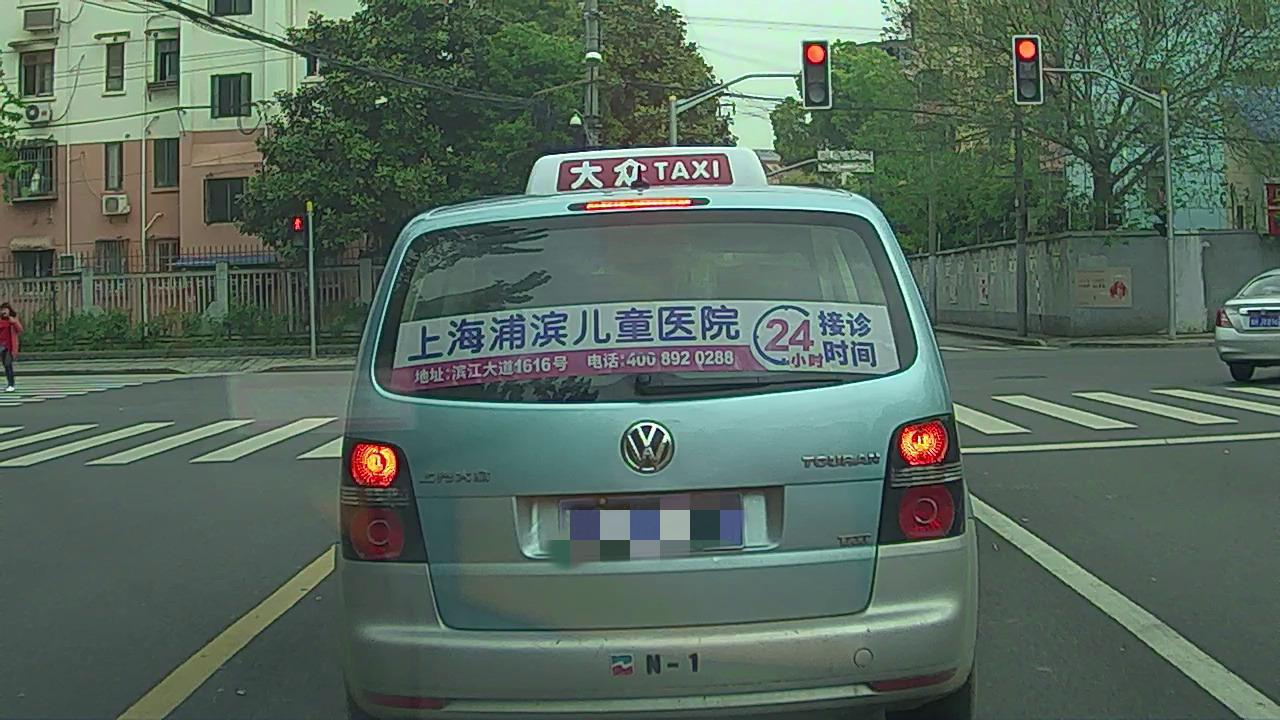traffic_light: (803, 42, 833, 110), (1014, 35, 1043, 103)
